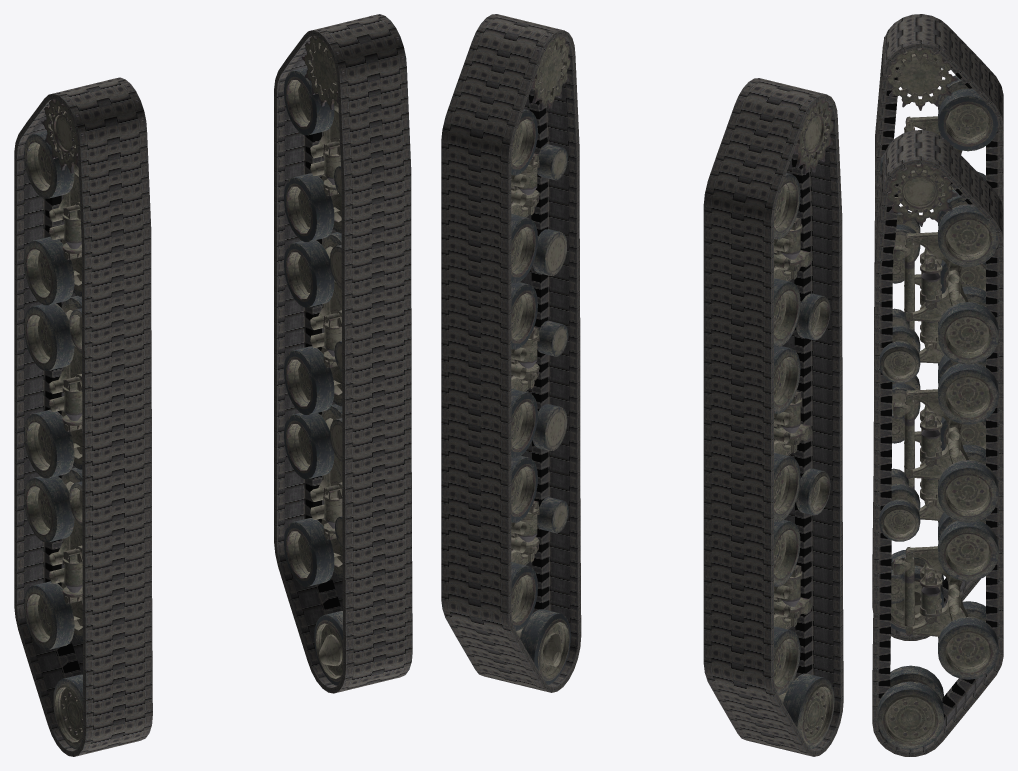
File: Chassis.glb
The picture shows the model from 3 angles, left to right: view 1: azimuth 30°, elevation 25°; view 2: azimuth 150°, elevation 25°; view 3: azimuth 270°, elevation 25°; orthographic projection. The views are drawn at different scales.
Visible parts, largest first — view 1: set_1_group_0, set_0_group_0, set_2_group_0, set_3_group_0; view 2: set_0_group_0, set_1_group_0, set_3_group_0, set_2_group_0; view 3: set_3_group_0, set_1_group_0, set_2_group_0, set_0_group_0.
Boxes of the visible parts, x1,y1,x2,y2 form: set_1_group_0: (274,14,412,693); set_0_group_0: (14,77,152,756); set_2_group_0: (24,78,143,749); set_3_group_0: (284,14,404,685); set_0_group_0: (703,78,843,756); set_1_group_0: (441,14,581,692); set_3_group_0: (476,14,570,684); set_2_group_0: (738,78,834,749); set_3_group_0: (877,131,998,749); set_1_group_0: (872,130,1003,756); set_2_group_0: (880,15,998,632); set_0_group_0: (872,14,1003,640).
Size of the model in its own units: 2.89 by 5.52 by 1.1.
4 materials, 4 textured.
